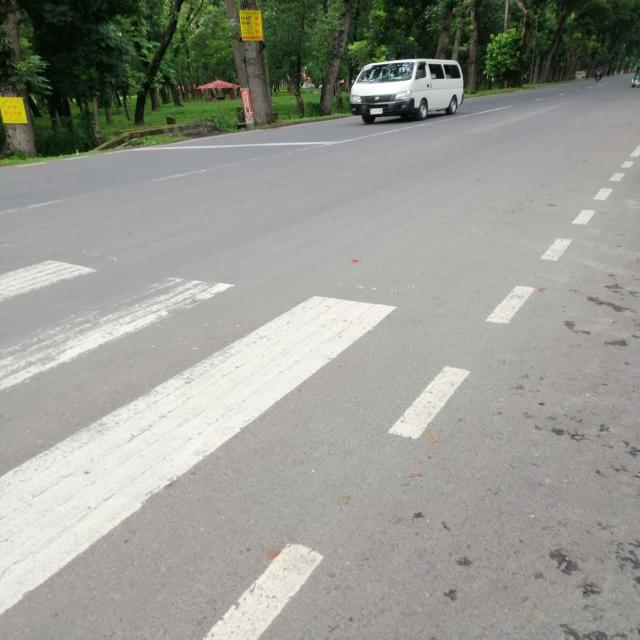Micro-Bus: (344, 57, 467, 129)
